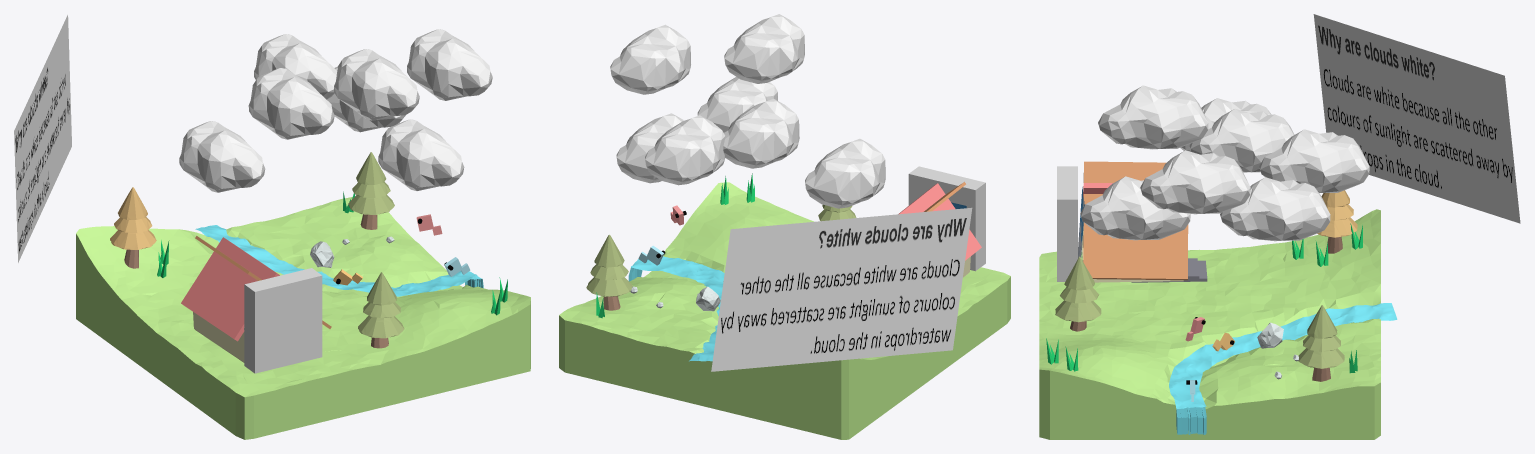
The model's file is cloud1.glb.
3 views of the same model, side by side, from view 1: azimuth 30°, elevation 25°; view 2: azimuth 150°, elevation 25°; view 3: azimuth 270°, elevation 25° (orthographic).
Visible parts, largest first — view 1: terrain, pPlane2, Cube, house:pCube6, pPlatonic1.003, clouds:pPlatonic1.002, pPlatonic1.001, pPlatonic1, pPlatonic1.002, clouds:pPlatonic1, water, clouds:pPlatonic1.001 (+7 smaller); view 2: terrain, pPlane2, pPlatonic1.002, pPlatonic1, clouds:pPlatonic1.002, clouds:pPlatonic1, pPlatonic1.001, Cube, pPlatonic1.003, water, clouds:pPlatonic1.001, house:pCube6 (+4 smaller); view 3: terrain, pPlane2, house:pCube5, pPlatonic1, clouds:pPlatonic1.002, clouds:pPlatonic1.001, clouds:pPlatonic1, water, pPlatonic1.003, pPlatonic1.001, Cube, pPlatonic1.002 (+8 smaller).
Part boxes in pixels (x1,y1,x2,y2): terrain: [76, 197, 530, 439]; pPlane2: [14, 15, 71, 262]; Cube: [244, 268, 322, 373]; house:pCube6: [181, 237, 279, 341]; pPlatonic1.003: [378, 119, 464, 190]; clouds:pPlatonic1.002: [407, 29, 492, 100]; pPlatonic1.001: [248, 68, 334, 139]; pPlatonic1: [334, 49, 419, 120]; pPlatonic1.002: [179, 121, 265, 192]; clouds:pPlatonic1: [254, 34, 336, 99]; water: [195, 225, 483, 296]; clouds:pPlatonic1.001: [327, 66, 405, 132]; terrain: [559, 182, 1010, 439]; pPlane2: [711, 207, 972, 371]; pPlatonic1.002: [805, 138, 885, 208]; pPlatonic1: [724, 14, 804, 83]; clouds:pPlatonic1.002: [610, 24, 690, 94]; clouds:pPlatonic1: [645, 115, 725, 185]; pPlatonic1.001: [723, 98, 799, 168]; Cube: [908, 166, 985, 271]; pPlatonic1.003: [697, 77, 777, 132]; water: [628, 256, 724, 361]; clouds:pPlatonic1.001: [616, 113, 683, 183]; house:pCube6: [898, 183, 981, 260]; terrain: [1039, 209, 1380, 439]; pPlane2: [1313, 14, 1520, 223]; house:pCube5: [1083, 161, 1188, 280]; pPlatonic1: [1098, 85, 1208, 149]; clouds:pPlatonic1.002: [1140, 150, 1250, 214]; clouds:pPlatonic1.001: [1220, 177, 1330, 241]; clouds:pPlatonic1: [1259, 129, 1369, 192]; water: [1169, 303, 1397, 434]; pPlatonic1.003: [1080, 176, 1190, 240]; pPlatonic1.001: [1189, 108, 1294, 172]; Cube: [1057, 166, 1077, 281]; pPlatonic1.002: [1180, 98, 1271, 151].
Size of the model in its own units: 0.4675 by 0.3333 by 0.4738.
31 materials, 2 textured.
